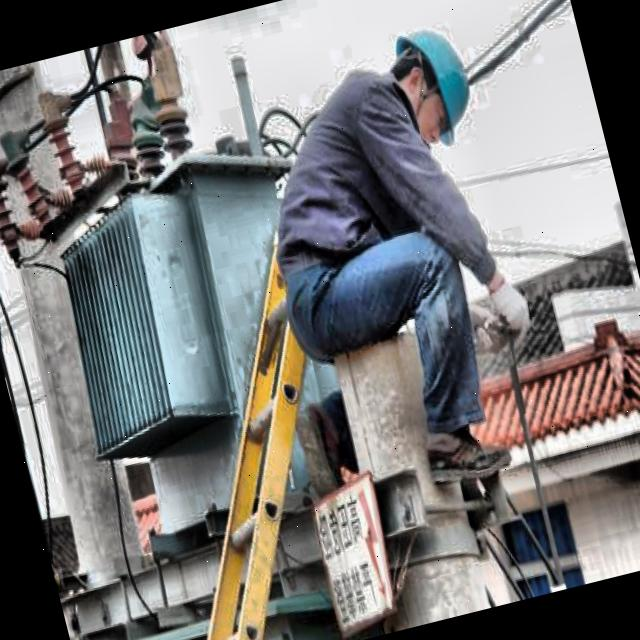helmet: (370, 4, 486, 155)
